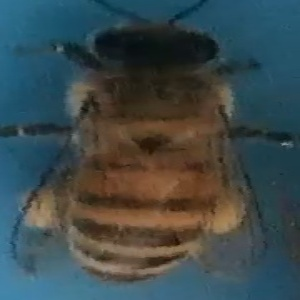bee: (18, 3, 297, 286)
